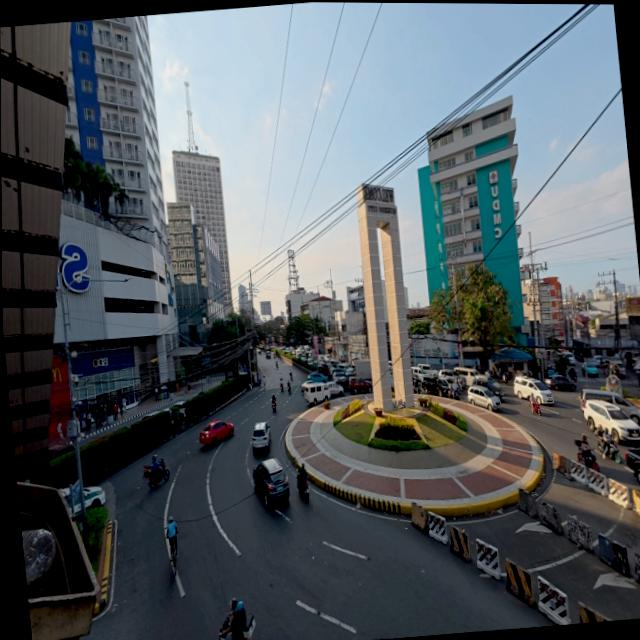car: (252, 458, 293, 510), (464, 382, 500, 414), (195, 419, 234, 448), (251, 420, 274, 455)
trucks: (296, 370, 341, 404)
vans: (510, 376, 552, 407)
